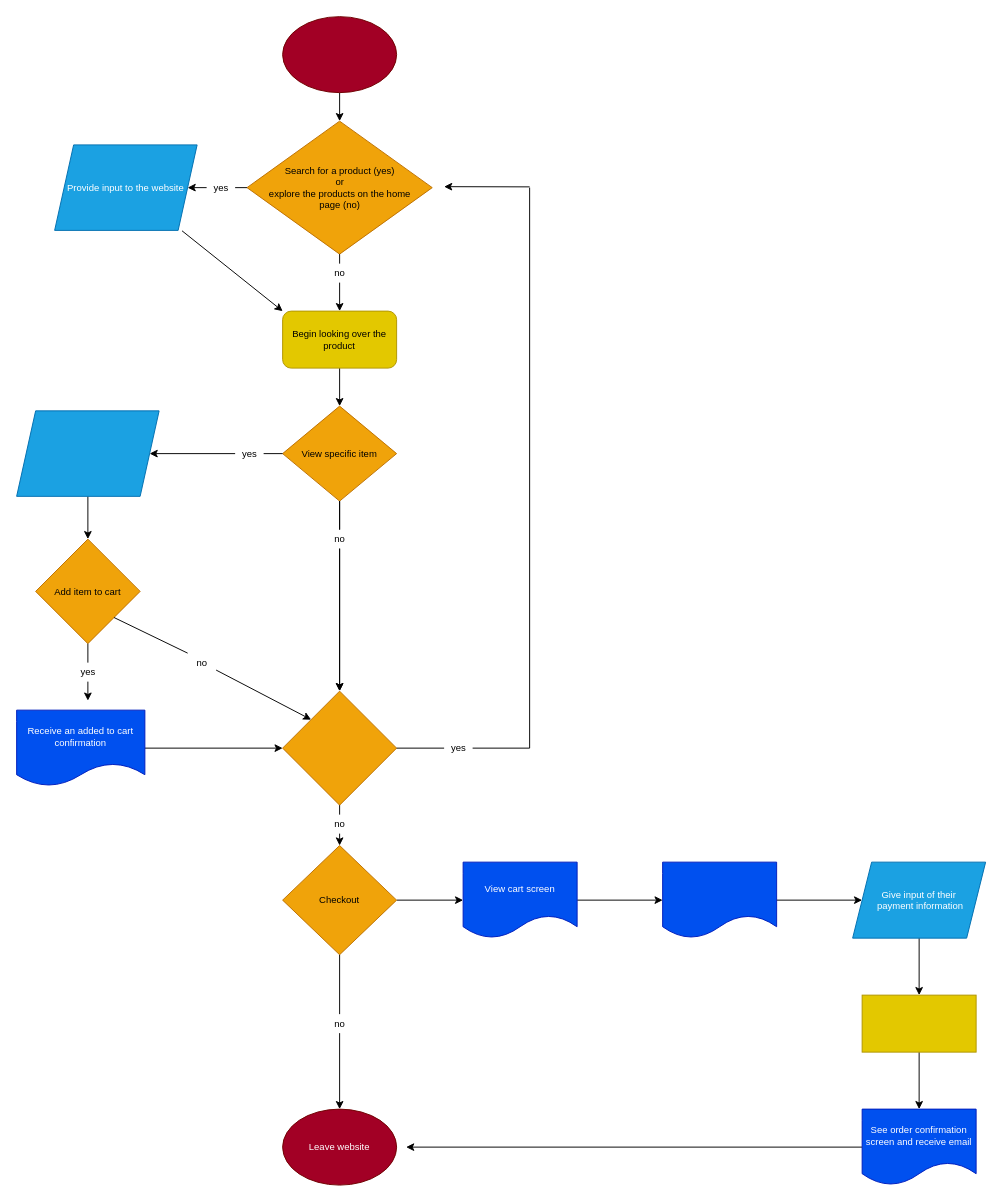
This 1002x1202 diagram has some shape labels left out. The shapes that lost their labels are listed below. From the top down, each one's centre as x and y in pixels, then its label:
pixel 339 54: Enter website
pixel 87 453: Product's web page opens
pixel 339 747: Continue shopping
pixel 719 899: View payment screen
pixel 918 1023: Pay
